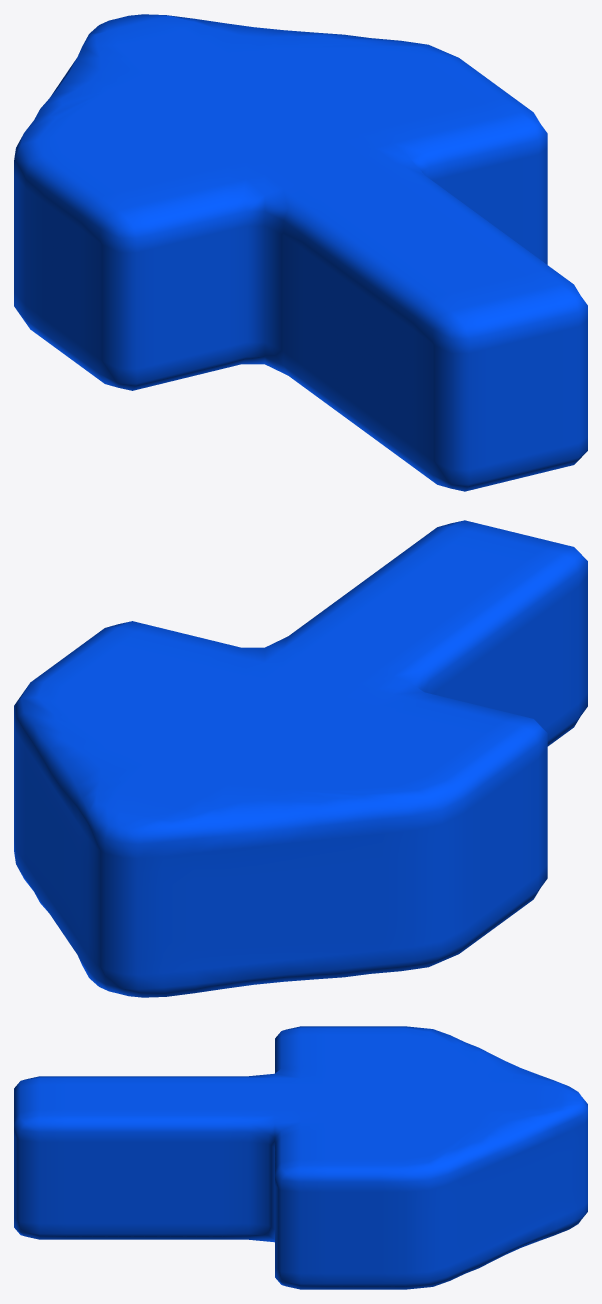
The model's file is CCDS_Model_ArrowIndicator.FBX.
The picture shows the model from 3 angles, top to bottom: view 1: azimuth 30°, elevation 25°; view 2: azimuth 150°, elevation 25°; view 3: azimuth 270°, elevation 25°; orthographic projection. The views are drawn at different scales.
Visible parts, largest first — view 1: CCDS_ArrowIndicator; view 2: CCDS_ArrowIndicator; view 3: CCDS_ArrowIndicator.
Part boxes in pixels (x1,y1,x2,y2): CCDS_ArrowIndicator: (14,14,587,491); CCDS_ArrowIndicator: (14,520,587,997); CCDS_ArrowIndicator: (14,1026,587,1289).
Bounding box in the file's own units: 154 × 58.44 × 249.
